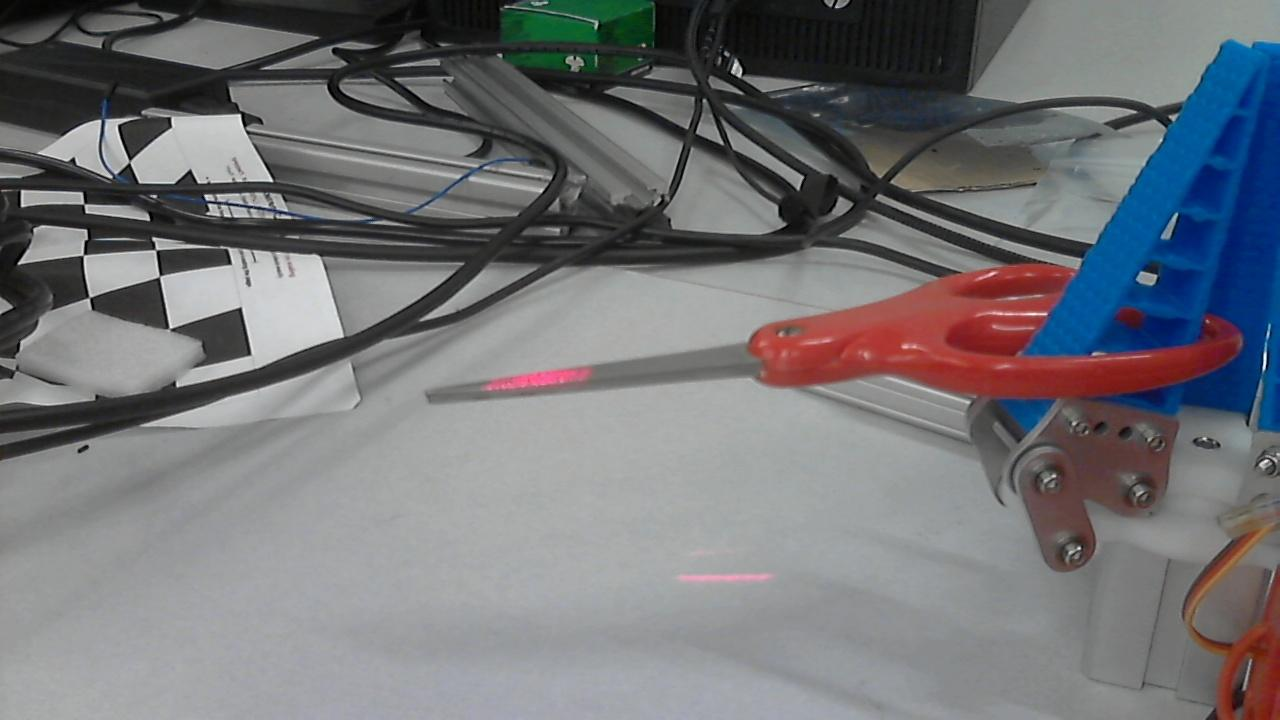Object scissors - Material metal - Pdfname tYexGlkiIXWc: (458, 358, 604, 408)
